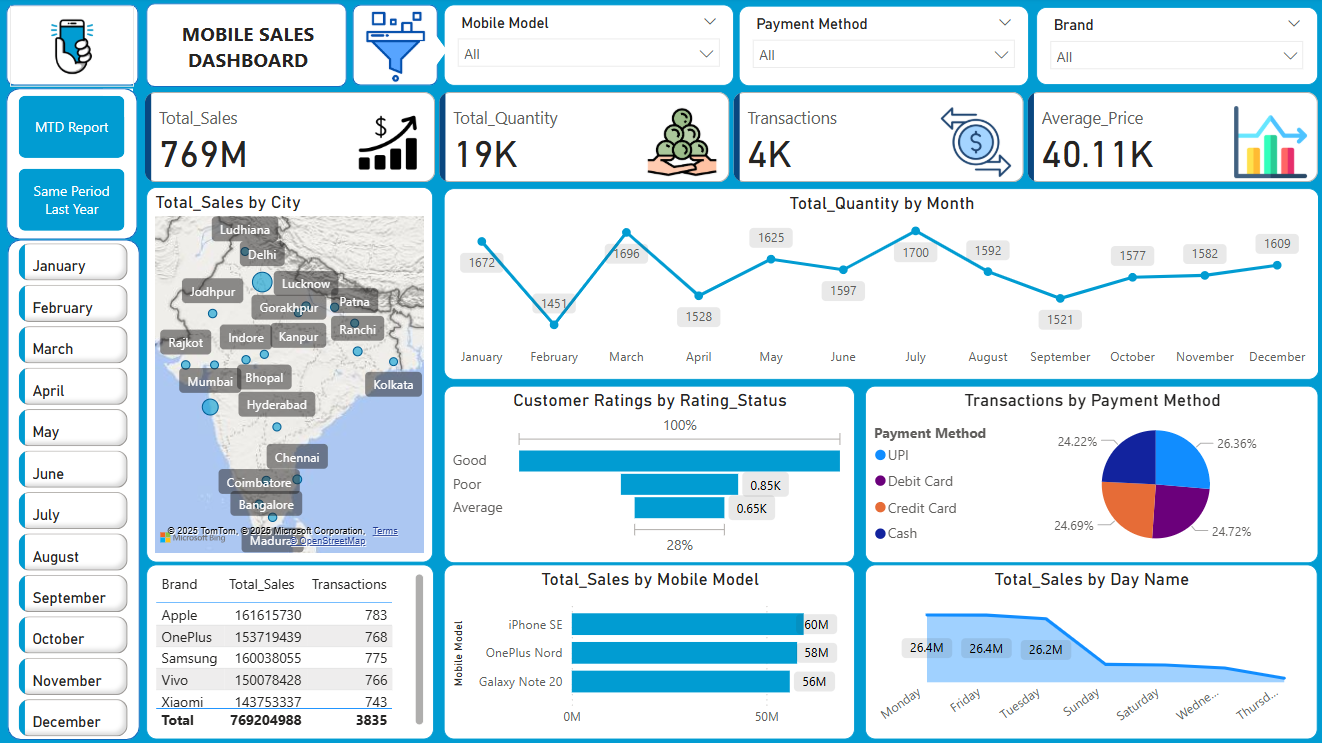

Layout of this report page (visuals, bound fields, positions):
{"tool":"powerbi","page":{"name":"Dashboard","canvas":[1280,720],"ordinal":0},"visuals":[{"type":"shape","box":[5.5,6.9,127.6,78.2],"z":0},{"type":"image","box":[9.6,8.2,119.4,78.2],"z":1000},{"type":"shape","box":[6,88.1,126.7,146],"z":2000},{"type":"shape","box":[6.9,234.6,127.6,483],"z":3000},{"type":"advancedSlicerVisual","fields":{"Values":["Custom_Calendar.Date.Variation.Date Hierarchy.Month"]},"box":[13.3,232.8,115.8,486.2],"z":4000},{"type":"cardVisual","fields":{"Data":["Mobile_Sales_Data.Total_Sales","Mobile_Sales_Data.Total_Quantity","Mobile_Sales_Data.Transactions","Mobile_Sales_Data.Average_Price"]},"box":[135.1,86.9,1144.9,97.7],"z":5000},{"type":"slicer","fields":{"Values":["Mobile_Sales_Data.Payment Method"]},"box":[713,8.4,279.9,77.2],"z":6000},{"type":"slicer","fields":{"Values":["Mobile_Sales_Data.Mobile Model"]},"box":[428.3,7.2,279.9,78.4],"z":7000},{"type":"slicer","fields":{"Values":["Mobile_Sales_Data.Brand"]},"box":[1000.3,9.6,271.7,75.5],"z":8000},{"type":"shape","box":[340.3,6.9,82.3,78.2],"z":9000},{"type":"image","box":[341.7,8.2,81,79.6],"z":10000},{"type":"shape","box":[404.8,34.3,26.1,35.7],"z":11000},{"type":"shape","box":[141.3,5.5,193.5,81],"z":12000},{"type":"textbox","box":[150.8,18.1,177.3,67.6],"z":13000},{"type":"map","fields":{"Category":["Mobile_Sales_Data.City"],"Size":["Mobile_Sales_Data.Total_Sales"]},"box":[141.3,183.9,277.2,362.3],"z":14000},{"type":"lineChart","fields":{"Category":["Custom_Calendar.Date.Variation.Date Hierarchy.Month"],"Y":["Mobile_Sales_Data.Total_Quantity"]},"box":[428.3,184.6,844.5,184.6],"z":15000},{"type":"funnel","title":"Customer Ratings by Rating_Status","fields":{"Y":["CountNonNull(Mobile_Sales_Data.Customer Ratings)"],"Category":["Mobile_Sales_Data.Rating_Status"]},"box":[428.1,374.6,396.6,171.5],"z":16000},{"type":"pieChart","fields":{"Category":["Mobile_Sales_Data.Payment Method"],"Y":["Mobile_Sales_Data.Transactions"]},"box":[834.3,374.6,437.7,171.5],"z":17000},{"type":"clusteredBarChart","fields":{"Y":["Mobile_Sales_Data.Total_Sales"],"Category":["Mobile_Sales_Data.Mobile Model"]},"box":[428.3,547.7,396.9,168.9],"z":18000},{"type":"stackedAreaChart","fields":{"Y":["Mobile_Sales_Data.Total_Sales"],"Category":["Custom_Calendar.Day Name"]},"box":[834.9,547.7,436.7,168.9],"z":19000},{"type":"tableEx","fields":{"Values":["Mobile_Sales_Data.Brand","Mobile_Sales_Data.Total_Sales","Mobile_Sales_Data.Transactions"]},"box":[141.2,547.7,277.5,168.9],"z":20000},{"type":"pageNavigator","box":[18.1,95.3,102.5,130.3],"z":21000}]}

Visuals, with their boxes in screenshot pixels (x1, y1, x2, y2), scaled from the page's 1280x720 canvas onto the 1322x743 screenshot:
shape: x1=6 y1=7 x2=137 y2=88
image: x1=10 y1=8 x2=133 y2=89
shape: x1=6 y1=91 x2=137 y2=242
shape: x1=7 y1=242 x2=139 y2=741
advancedSlicerVisual - Custom_Calendar.Date.Variation.Date Hierarchy.Month: x1=14 y1=240 x2=133 y2=742
cardVisual - Mobile_Sales_Data.Total_Sales x Mobile_Sales_Data.Total_Quantity: x1=140 y1=90 x2=1321 y2=190
slicer - Mobile_Sales_Data.Payment Method: x1=736 y1=9 x2=1025 y2=88
slicer - Mobile_Sales_Data.Mobile Model: x1=442 y1=7 x2=731 y2=88
slicer - Mobile_Sales_Data.Brand: x1=1033 y1=10 x2=1314 y2=88
shape: x1=351 y1=7 x2=436 y2=88
image: x1=353 y1=8 x2=437 y2=91
shape: x1=418 y1=35 x2=445 y2=72
shape: x1=146 y1=6 x2=346 y2=89
textbox: x1=156 y1=19 x2=339 y2=88
map - Mobile_Sales_Data.City x Mobile_Sales_Data.Total_Sales: x1=146 y1=190 x2=432 y2=564
lineChart - Custom_Calendar.Date.Variation.Date Hierarchy.Month x Mobile_Sales_Data.Total_Quantity: x1=442 y1=190 x2=1315 y2=381
"Customer Ratings by Rating_Status" funnel: x1=442 y1=387 x2=852 y2=564
pieChart - Mobile_Sales_Data.Payment Method x Mobile_Sales_Data.Transactions: x1=862 y1=387 x2=1314 y2=564
clusteredBarChart - Mobile_Sales_Data.Total_Sales x Mobile_Sales_Data.Mobile Model: x1=442 y1=565 x2=852 y2=739
stackedAreaChart - Mobile_Sales_Data.Total_Sales x Custom_Calendar.Day Name: x1=862 y1=565 x2=1313 y2=739
tableEx - Mobile_Sales_Data.Brand x Mobile_Sales_Data.Total_Sales: x1=146 y1=565 x2=432 y2=739
pageNavigator: x1=19 y1=98 x2=125 y2=233
